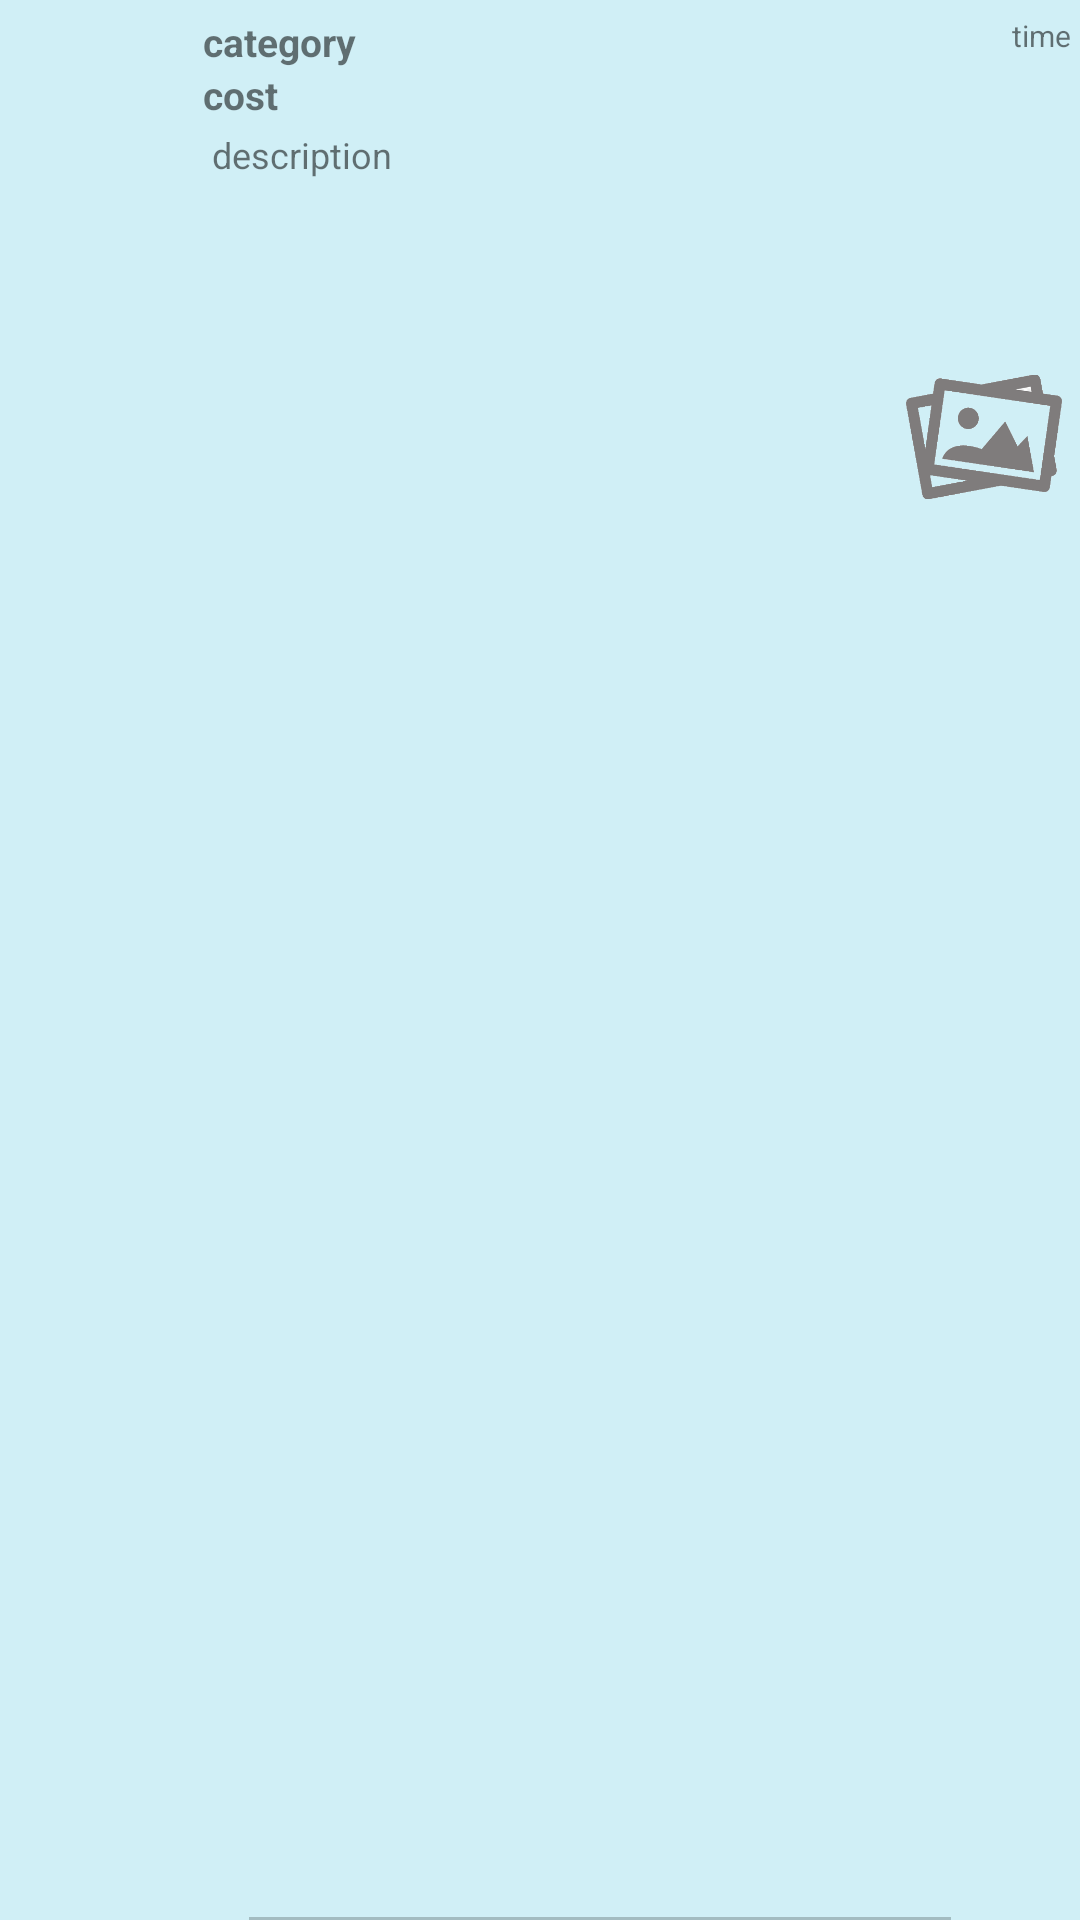

Point at icon controls on the screen. Image size 1080*1920, points as (x=x, y=y).
gallery: (x=984, y=437)
